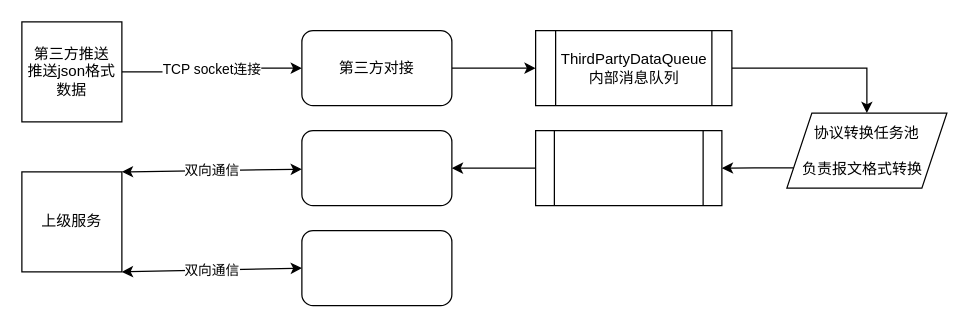
Image size: 969x328. Some labels were removed from this diagram. Here are the shapes that lost their labels. From the top down, the centre of each, then its label:
(x=376, y=167): 上行链路
(x=628, y=167): UpLinkDataQueue 内部消息队列
(x=376, y=267): 下行链路
